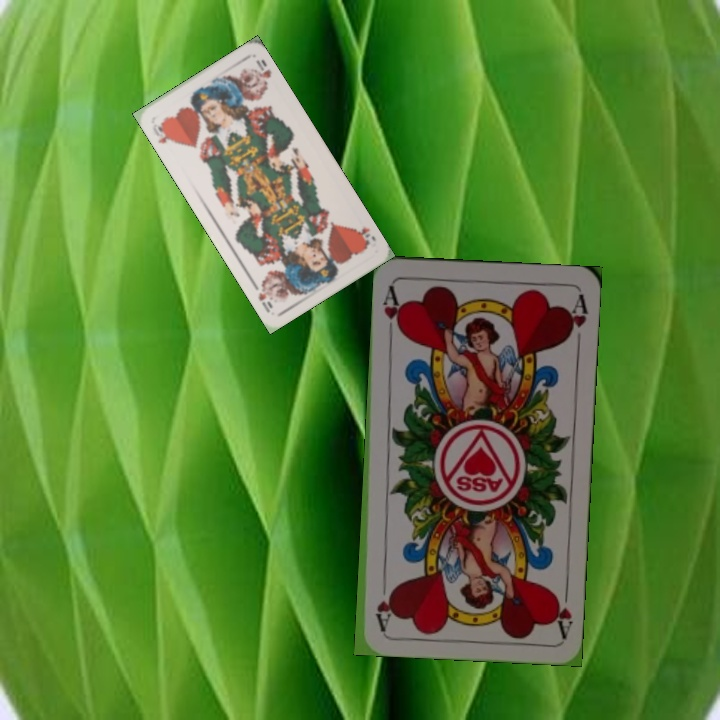HA: (378, 281, 405, 340), (548, 580, 575, 639)
HO: (351, 223, 379, 251), (154, 119, 176, 146)
